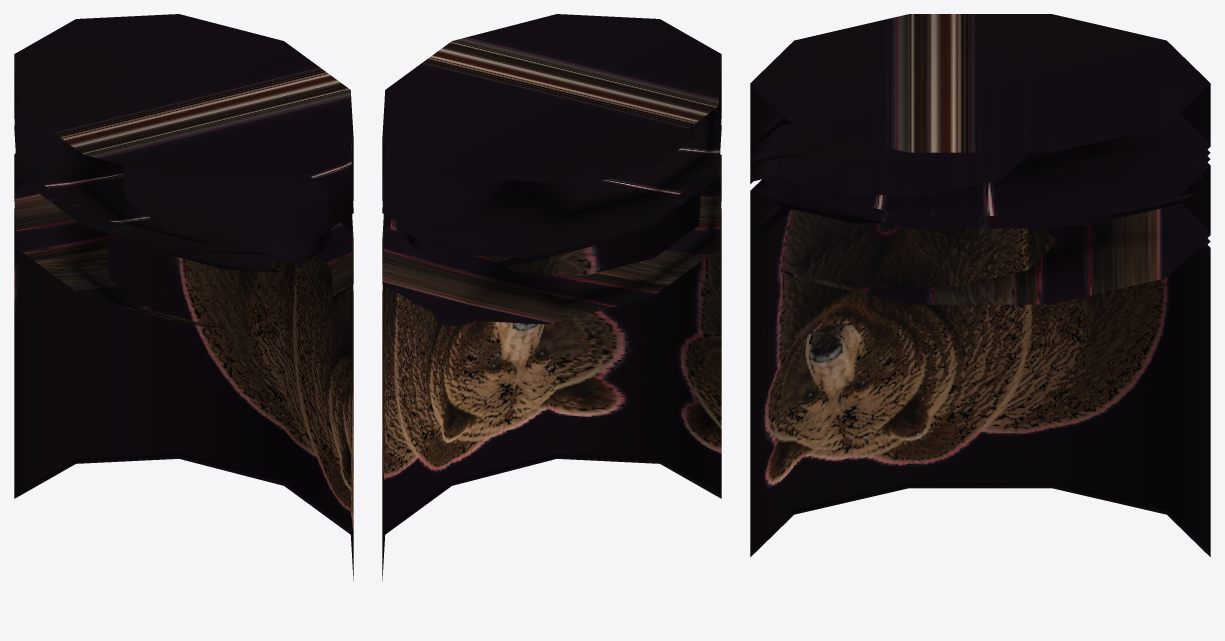
File: bear.glb
3 views of the same model, side by side, from view 1: azimuth 30°, elevation 25°; view 2: azimuth 150°, elevation 25°; view 3: azimuth 270°, elevation 25° (orthographic). The views are drawn at different scales.
Parts seen in each view (by area): view 1: solid; view 2: solid; view 3: solid.
Part boxes in pixels (left/top/right/bottom): solid: left=14, top=14, right=353, bottom=580; solid: left=382, top=14, right=721, bottom=580; solid: left=750, top=14, right=1210, bottom=556.
Bounding box in the file's own units: 0.6277 × 1 × 0.88.
Materials: 1 (1 with a texture image).
